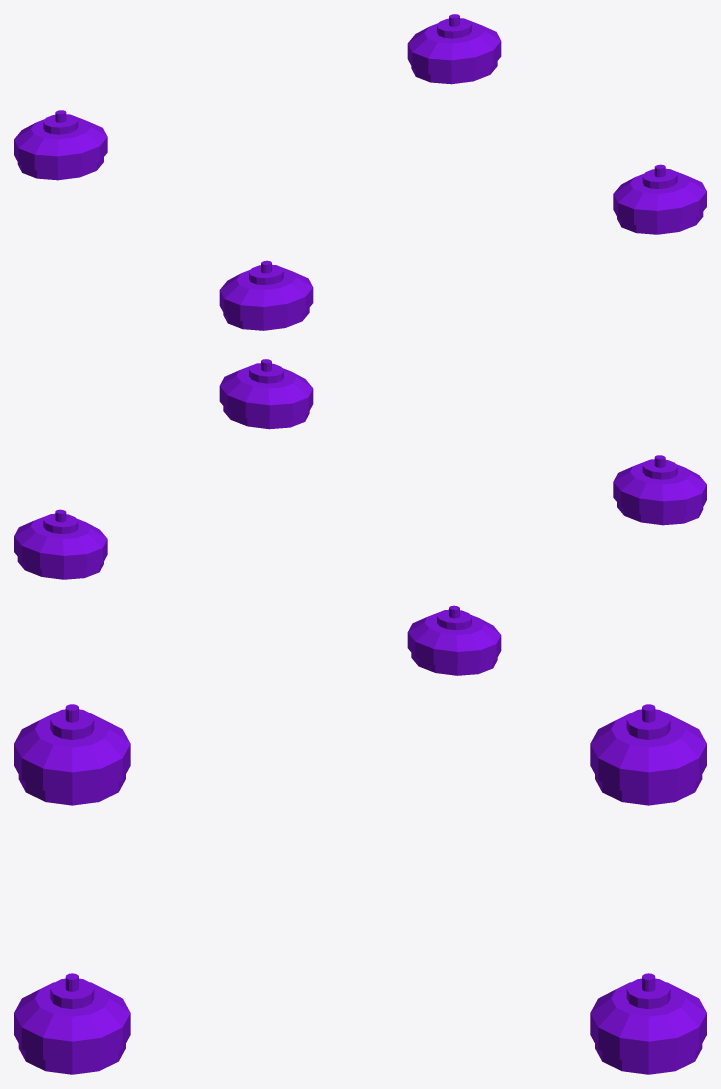
Rendered from motorljubicasti.fbx.
3 renders of one model, top to bottom at view 1: azimuth 30°, elevation 25°; view 2: azimuth 150°, elevation 25°; view 3: azimuth 270°, elevation 25°, orthographic. The views are drawn at different scales.
Parts seen in each view (by area): view 1: Drone.001; view 2: Drone.001; view 3: Drone.001.
Part boxes in pixels (x1,y1,x2,y2): Drone.001: (14,14,706,330); Drone.001: (14,359,706,675); Drone.001: (14,704,706,1074).
Size of the model in its own units: 572 by 58.51 by 513.
